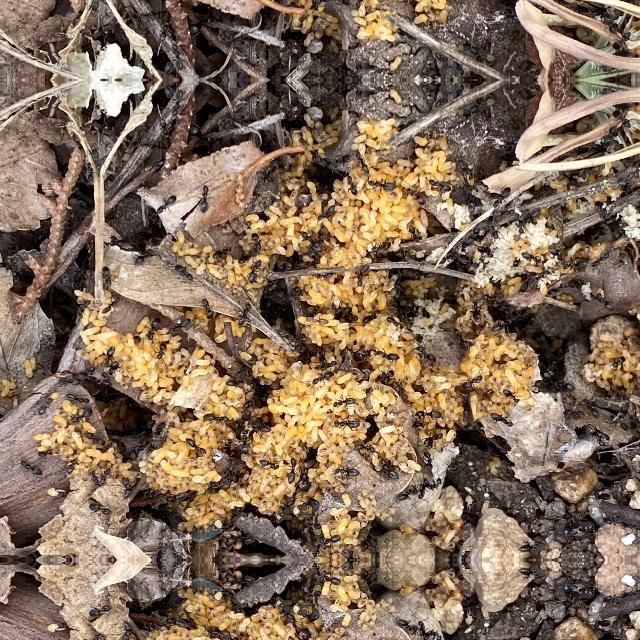Tapinoma: (544, 244, 572, 272), (608, 104, 638, 130), (608, 30, 638, 56), (194, 183, 216, 215), (309, 533, 341, 555), (309, 565, 341, 587), (186, 124, 216, 146), (186, 14, 216, 36), (376, 457, 402, 481), (363, 175, 397, 193), (489, 185, 515, 208), (206, 477, 238, 495), (168, 88, 186, 120), (168, 40, 186, 72), (334, 302, 360, 324), (299, 230, 323, 252), (586, 424, 610, 446), (445, 538, 469, 560), (445, 560, 469, 582), (142, 317, 162, 343), (70, 364, 96, 384), (545, 376, 577, 392), (156, 193, 180, 214), (428, 176, 456, 194), (206, 624, 237, 640), (155, 19, 173, 46), (172, 262, 196, 282), (372, 346, 402, 362), (242, 418, 272, 434), (416, 478, 440, 498), (366, 238, 394, 255), (225, 369, 251, 387), (155, 114, 173, 140), (414, 622, 440, 640), (72, 296, 95, 316), (182, 438, 206, 457), (487, 412, 515, 428), (326, 152, 354, 168), (18, 459, 44, 476), (451, 328, 472, 349), (593, 290, 615, 310), (342, 174, 362, 196), (246, 259, 264, 283), (236, 302, 254, 326), (414, 344, 438, 362), (589, 251, 613, 269), (352, 264, 370, 288), (297, 467, 315, 491), (314, 204, 338, 222), (514, 314, 538, 332), (352, 344, 376, 362), (481, 291, 505, 309), (136, 226, 160, 244), (405, 219, 423, 243), (490, 316, 514, 334), (101, 294, 122, 314), (516, 540, 546, 554), (516, 566, 546, 580), (458, 373, 484, 389), (308, 370, 334, 386), (87, 500, 113, 516), (520, 250, 546, 266), (467, 298, 483, 324), (87, 604, 113, 620), (128, 441, 148, 461), (200, 297, 218, 319), (168, 317, 190, 335), (132, 248, 154, 266), (374, 365, 396, 383), (406, 186, 428, 204), (253, 168, 275, 186), (203, 411, 231, 425), (333, 463, 361, 477), (294, 497, 322, 511), (294, 609, 322, 623), (420, 431, 444, 447), (284, 458, 300, 482), (101, 361, 122, 379), (98, 266, 115, 288), (64, 391, 90, 405), (154, 340, 172, 360), (36, 396, 54, 416), (353, 152, 371, 172), (232, 412, 252, 430), (502, 388, 524, 404), (102, 344, 118, 366), (413, 408, 442, 420), (584, 398, 602, 417), (352, 441, 378, 454), (68, 410, 92, 424), (333, 418, 361, 430), (117, 478, 133, 498), (361, 309, 381, 325), (331, 396, 357, 408), (260, 458, 282, 472), (84, 430, 106, 444), (88, 469, 105, 486), (248, 232, 264, 250), (117, 622, 133, 640), (212, 244, 232, 258), (314, 358, 338, 369), (65, 458, 81, 474), (420, 450, 436, 466), (170, 488, 186, 504), (170, 616, 186, 632), (611, 356, 629, 370), (340, 547, 360, 559), (340, 561, 360, 573), (326, 0, 354, 8), (297, 628, 315, 640), (36, 448, 56, 458), (130, 330, 144, 344), (411, 416, 427, 428), (240, 433, 250, 452), (479, 388, 497, 398), (353, 0, 371, 8), (88, 632, 104, 640)
